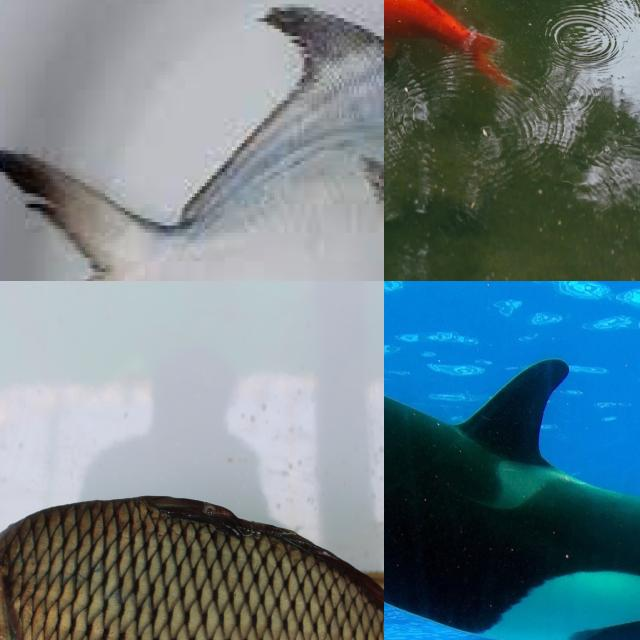fish: (0, 0, 384, 281), (384, 281, 640, 640), (384, 0, 636, 281), (0, 479, 384, 640)
